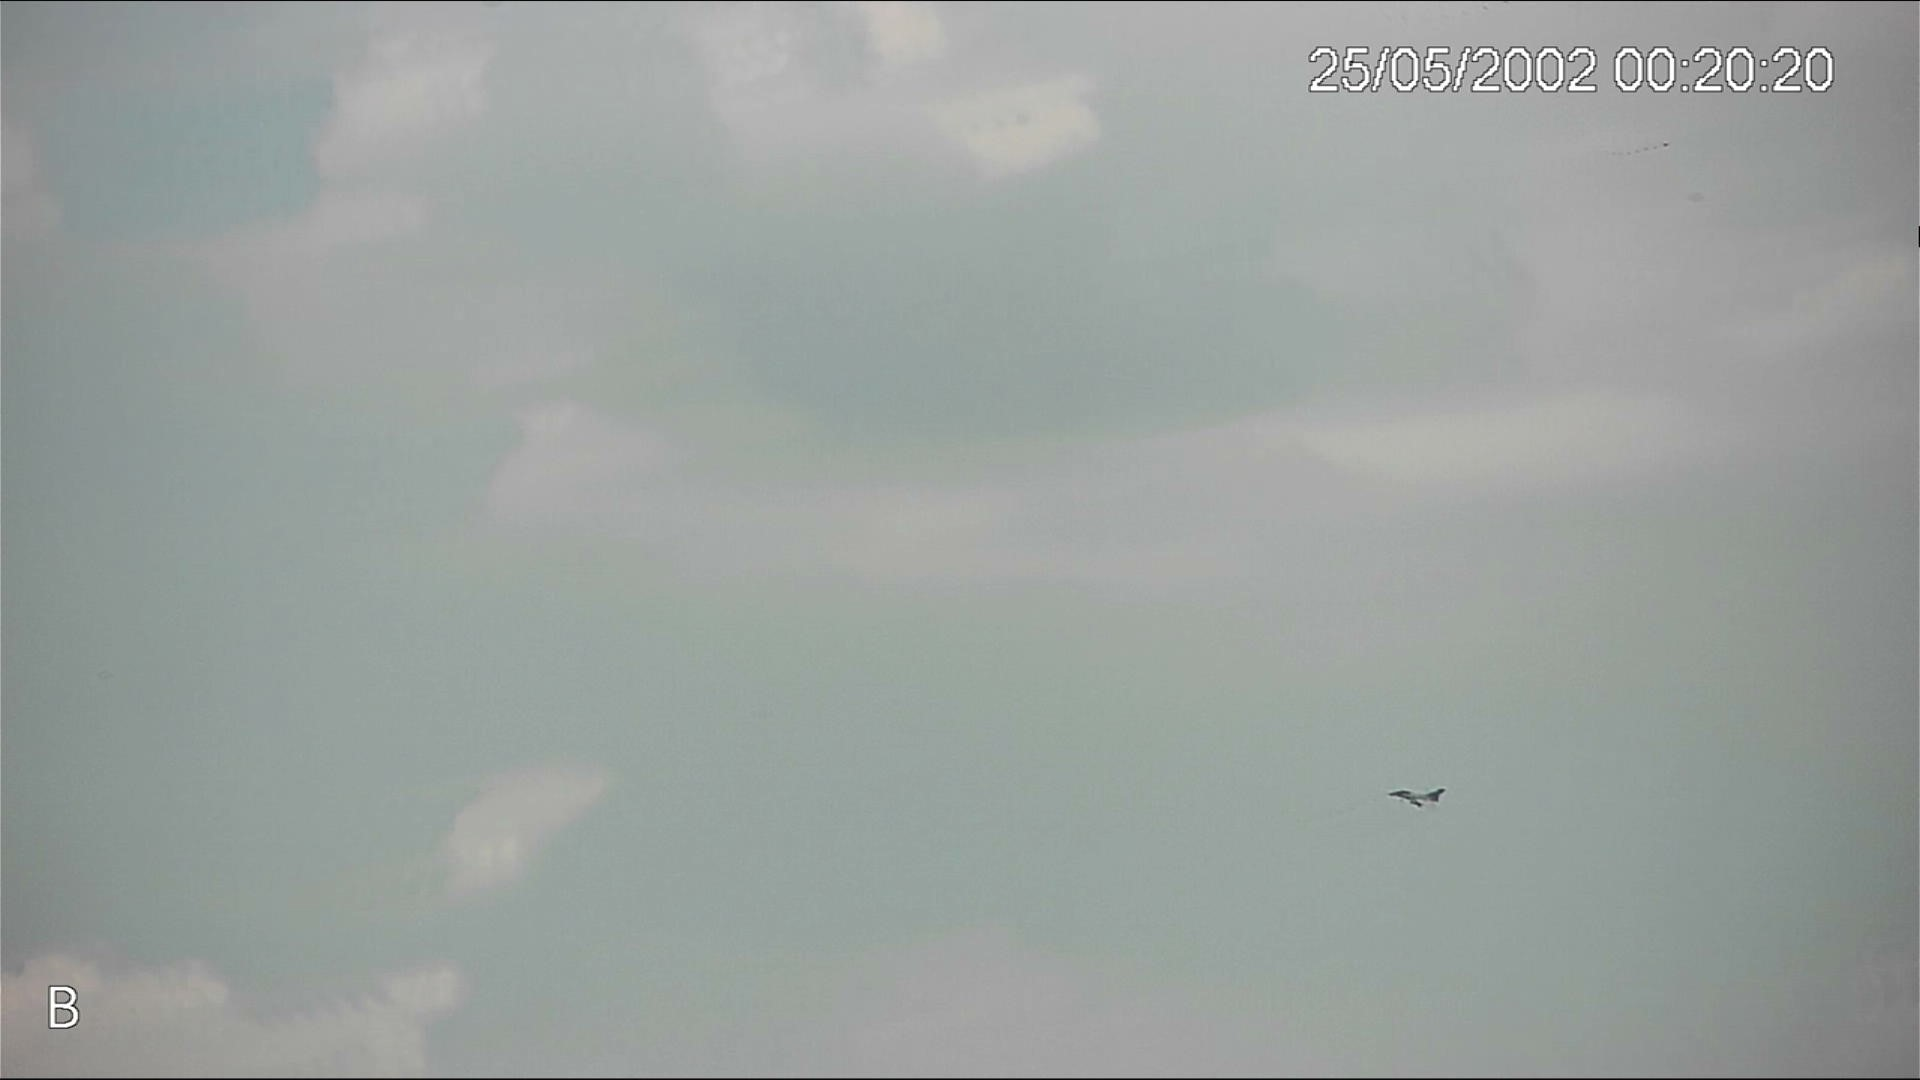SU_30: (1390, 786, 1447, 814)
